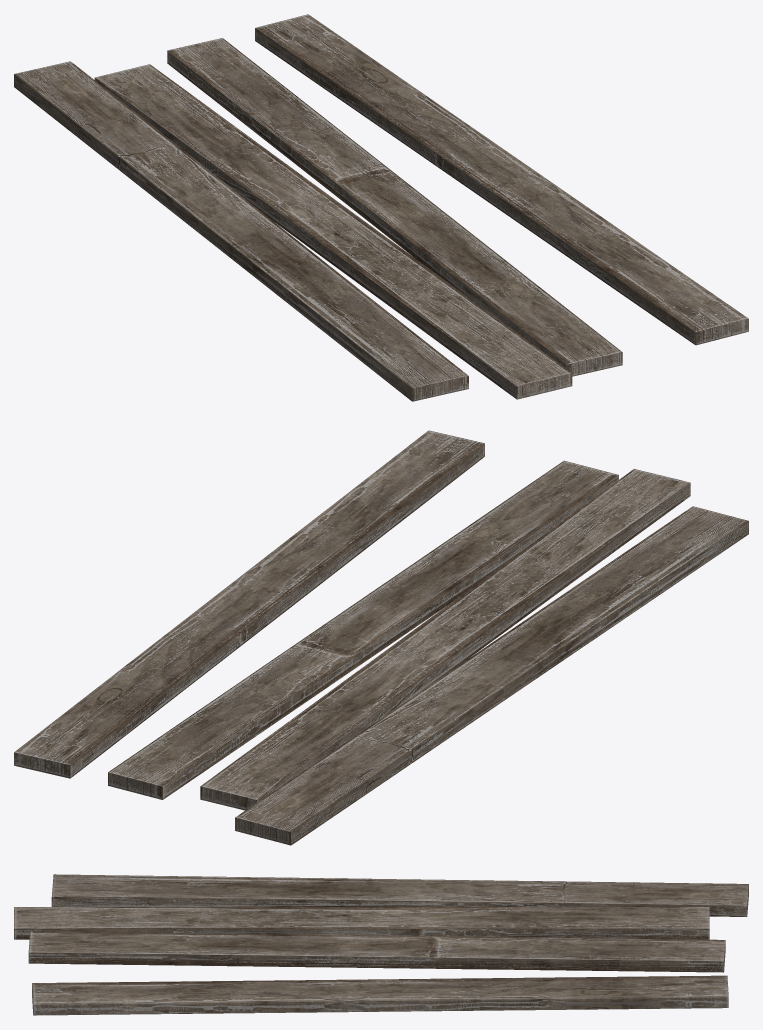
File: SM_WoodPlank06.FBX
3 views of the same model, one above another, from view 1: azimuth 30°, elevation 25°; view 2: azimuth 150°, elevation 25°; view 3: azimuth 270°, elevation 25° (orthographic). The views are drawn at different scales.
Visible parts, largest first — view 1: SM_WoodPlank06; view 2: SM_WoodPlank06; view 3: SM_WoodPlank06.
Boxes of the visible parts, x1,y1,x2,y2 form: SM_WoodPlank06: (14,14,748,401); SM_WoodPlank06: (14,430,748,845); SM_WoodPlank06: (14,874,748,1015).
Bounding box in the file's own units: 222 × 528 × 8.49.
